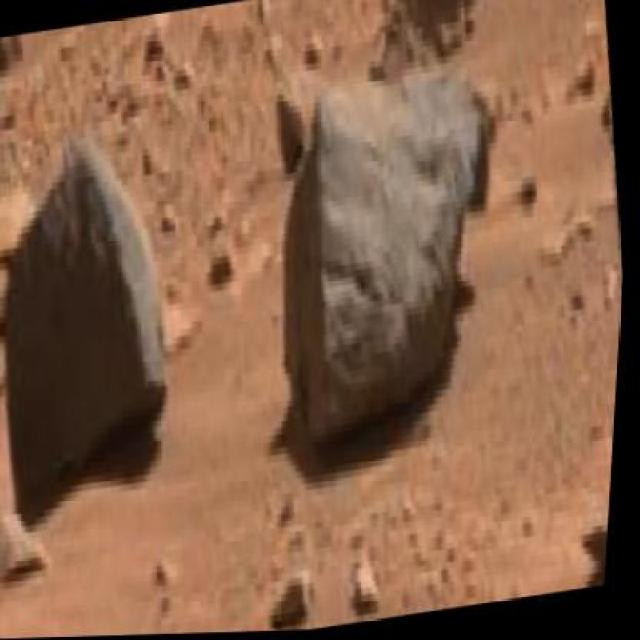rock: (249, 57, 531, 506), (0, 136, 203, 530), (364, 0, 508, 91), (567, 430, 618, 588), (0, 502, 63, 596), (265, 571, 326, 631), (0, 31, 32, 80)
